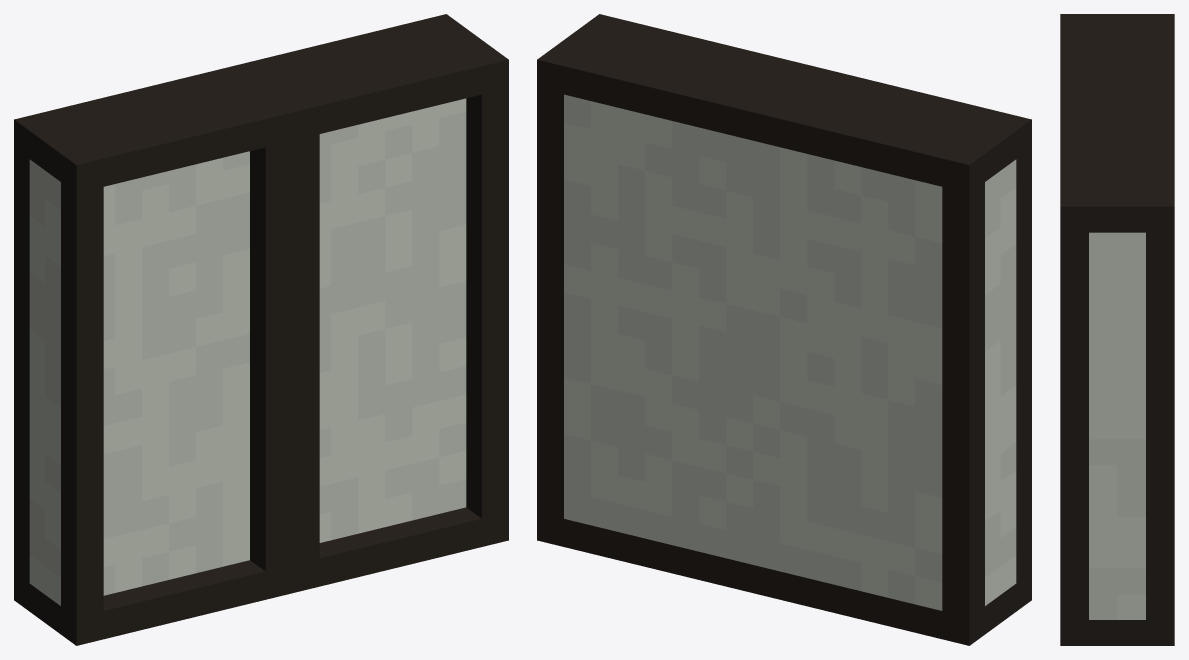
File: tavern-80-wall_tudor2.obj
The picture shows the model from 3 angles, left to right: view 1: azimuth 30°, elevation 25°; view 2: azimuth 150°, elevation 25°; view 3: azimuth 270°, elevation 25°; orthographic projection. The views are drawn at different scales.
Visible parts, largest first — view 1: wall_tudor2; view 2: wall_tudor2; view 3: wall_tudor2.
Boxes of the visible parts, x1,y1,x2,y2 form: wall_tudor2: [14, 14, 508, 645]; wall_tudor2: [537, 14, 1031, 645]; wall_tudor2: [1060, 14, 1174, 645].
Size of the model in its own units: 1.6 by 1.7 by 0.4.
1 material, 1 textured.
